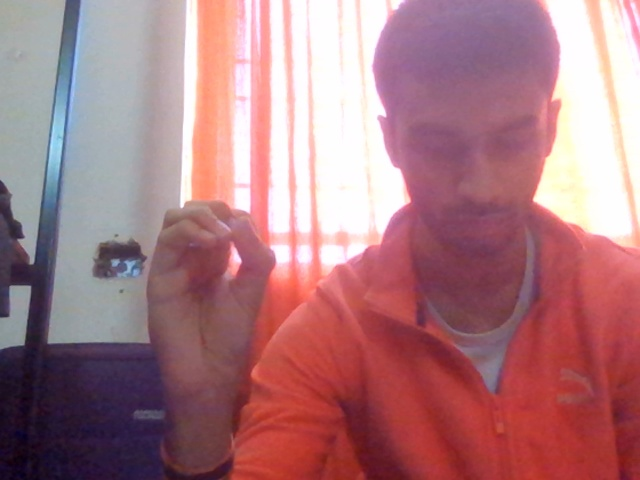O: (109, 161, 341, 441)
